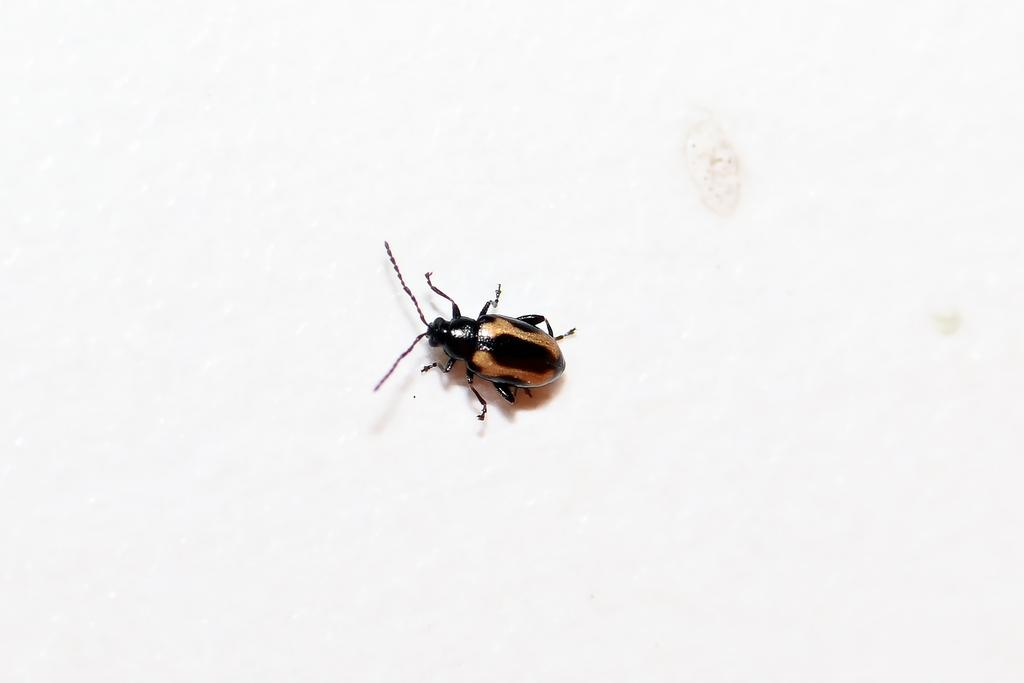flea_beetle: (331, 223, 644, 481)
